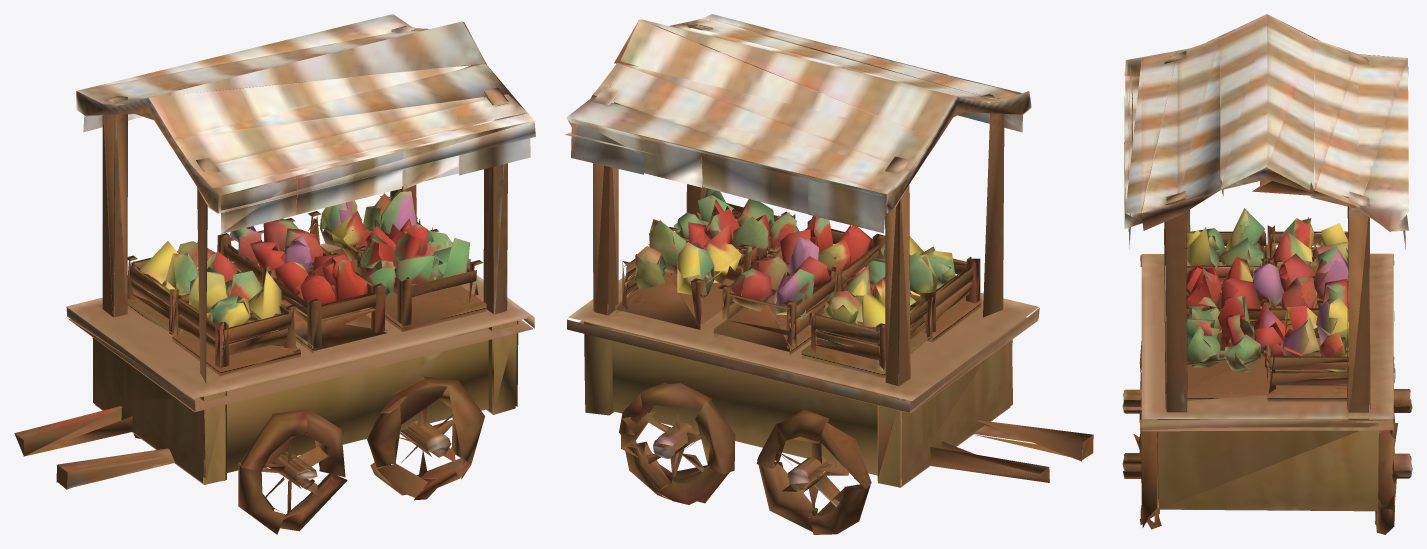
The model's file is cart_market_2.glb.
3 renders of one model, left to right at view 1: azimuth 30°, elevation 25°; view 2: azimuth 150°, elevation 25°; view 3: azimuth 270°, elevation 25°, orthographic.
Visible parts, largest first — view 1: Mesh_0; view 2: Mesh_0; view 3: Mesh_0.
Part boxes in pixels (x1,y1,x2,y2): Mesh_0: (14, 14, 535, 534); Mesh_0: (565, 14, 1093, 534); Mesh_0: (1122, 14, 1412, 534).
Bounding box in the file's own units: 0.9511 × 0.8714 × 0.5606.
Materials: 1 (1 with a texture image).
